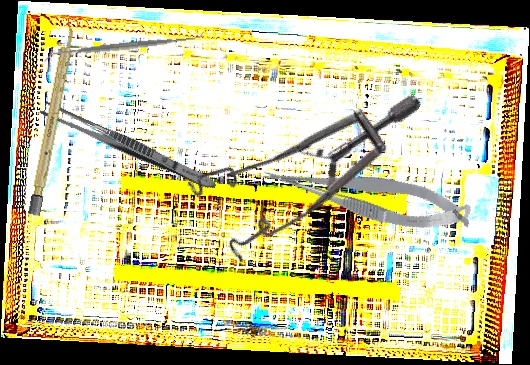Dressing Forceps: (37, 98, 220, 195)
Micro Scissor: (257, 138, 478, 250)
Scalpel Handle: (27, 21, 78, 217)
Spatula Surgical: (42, 29, 206, 64)
Speculum: (166, 18, 424, 300)
